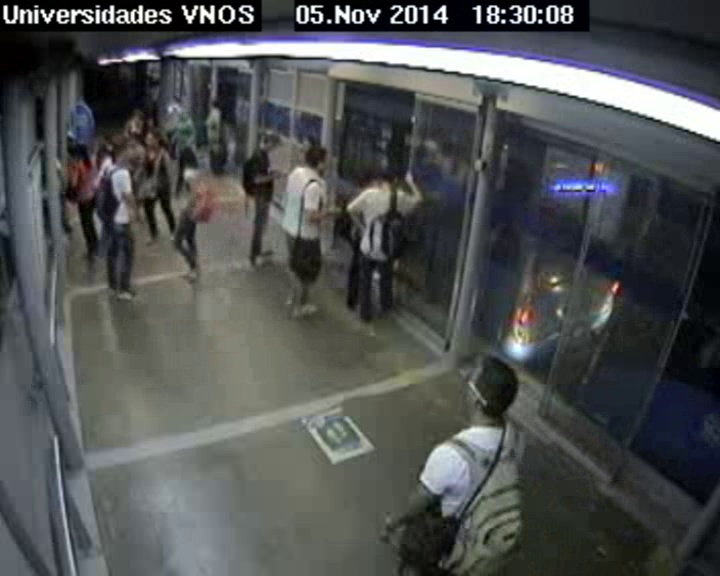person: (460, 355, 524, 420), (303, 146, 328, 176), (379, 166, 400, 190), (67, 143, 88, 164), (261, 133, 281, 155), (359, 171, 379, 191), (143, 129, 162, 149), (110, 145, 129, 165), (178, 147, 197, 166), (128, 131, 140, 144), (102, 133, 113, 144), (179, 110, 189, 121), (132, 110, 142, 121), (211, 98, 221, 108), (152, 79, 160, 87), (171, 95, 178, 103)
